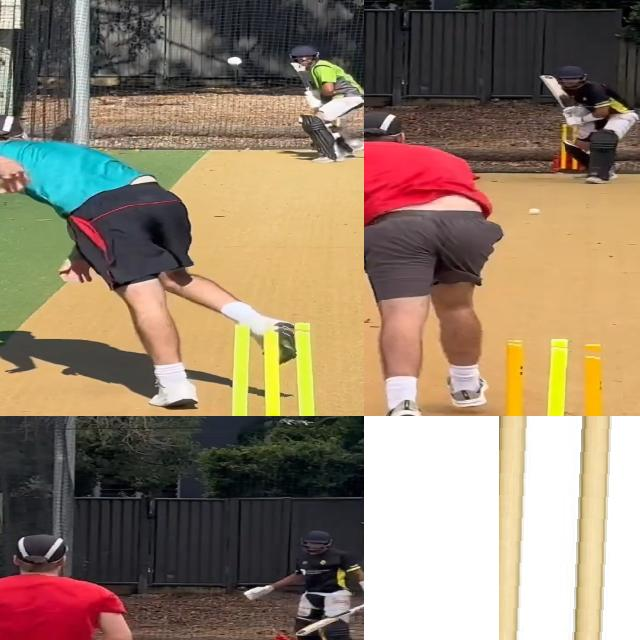Cricket ball: (226, 56, 243, 67), (527, 207, 541, 216)
Stumps: (499, 416, 640, 640), (482, 338, 622, 416), (225, 321, 326, 416)
